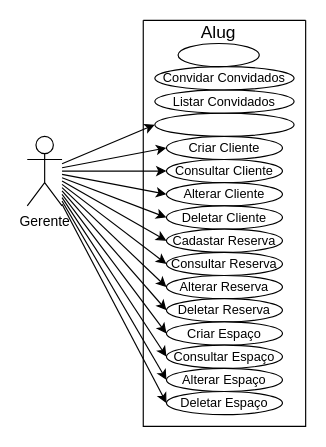
Image size: 326x447. Some labels were removed from this diagram. Here are the shapes that lost their labels. From the top down, the box of each, then its label:
(177, 42, 259, 67): Fazer Login
(154, 112, 294, 136): Remover Convidados
